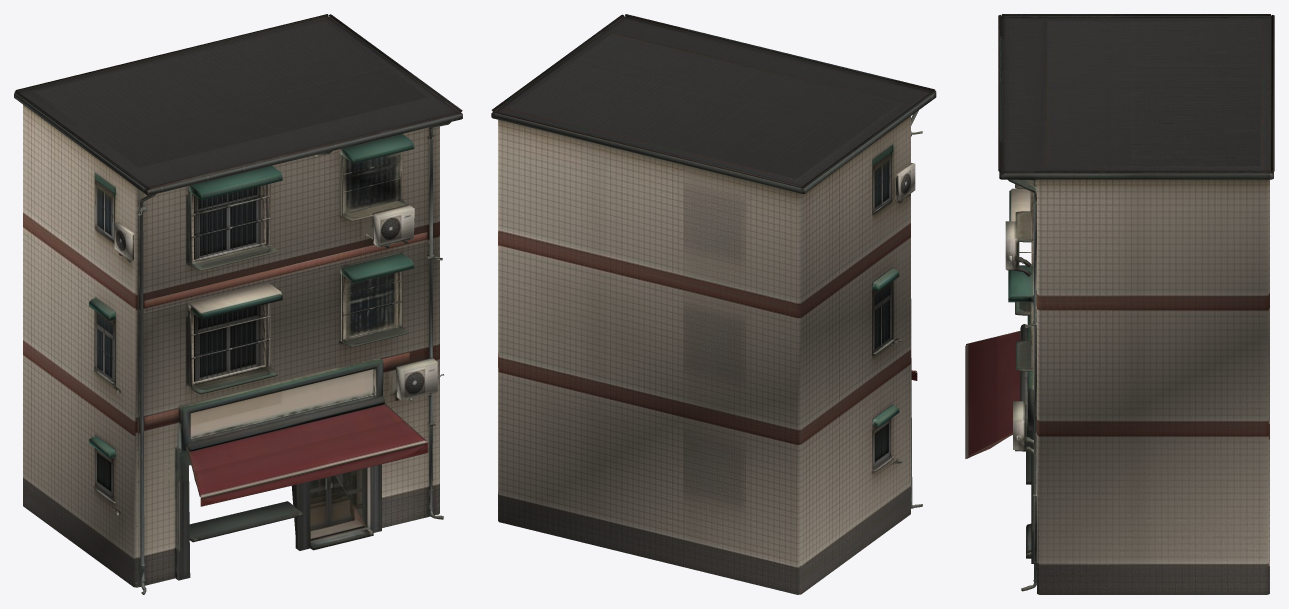
Rendered from facade-plain.glb.
3 renders of one model, left to right at view 1: azimuth 30°, elevation 25°; view 2: azimuth 150°, elevation 25°; view 3: azimuth 270°, elevation 25°, orthographic. The views are drawn at different scales.
Visible parts, largest first — view 1: tripo_node_54095b65-7fb0-4d34-93c8-bd7f38098760; view 2: tripo_node_54095b65-7fb0-4d34-93c8-bd7f38098760; view 3: tripo_node_54095b65-7fb0-4d34-93c8-bd7f38098760.
Boxes of the visible parts, left/top/right/bottom form: tripo_node_54095b65-7fb0-4d34-93c8-bd7f38098760: left=14, top=14, right=462, bottom=594; tripo_node_54095b65-7fb0-4d34-93c8-bd7f38098760: left=491, top=14, right=936, bottom=594; tripo_node_54095b65-7fb0-4d34-93c8-bd7f38098760: left=965, top=14, right=1274, bottom=594.
Size of the model in its own units: 0.7988 by 0.998 by 0.6582.
1 material, 1 textured.
